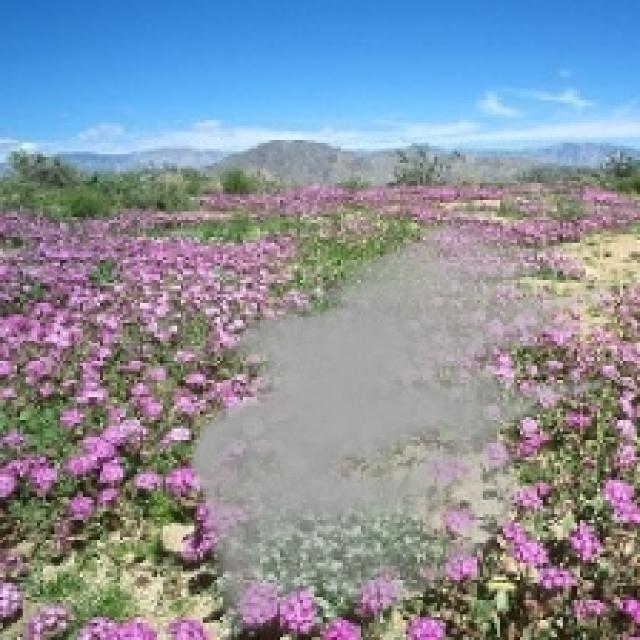smoke: (188, 217, 608, 632)
